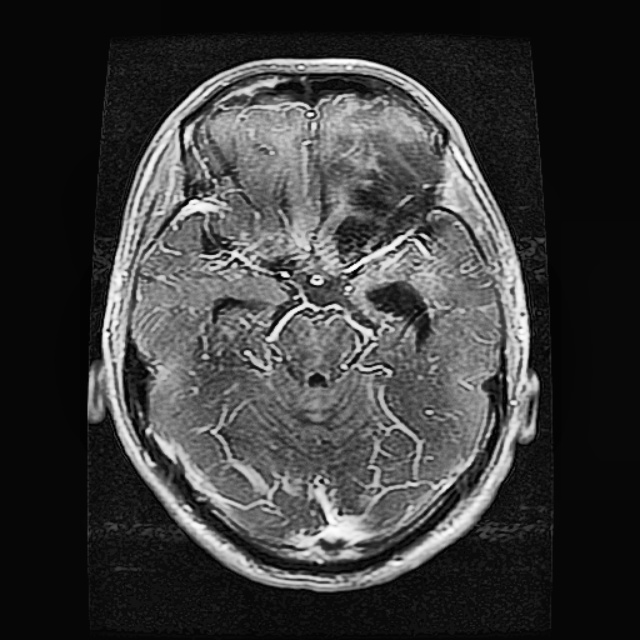Glioma: (319, 108, 447, 267)
